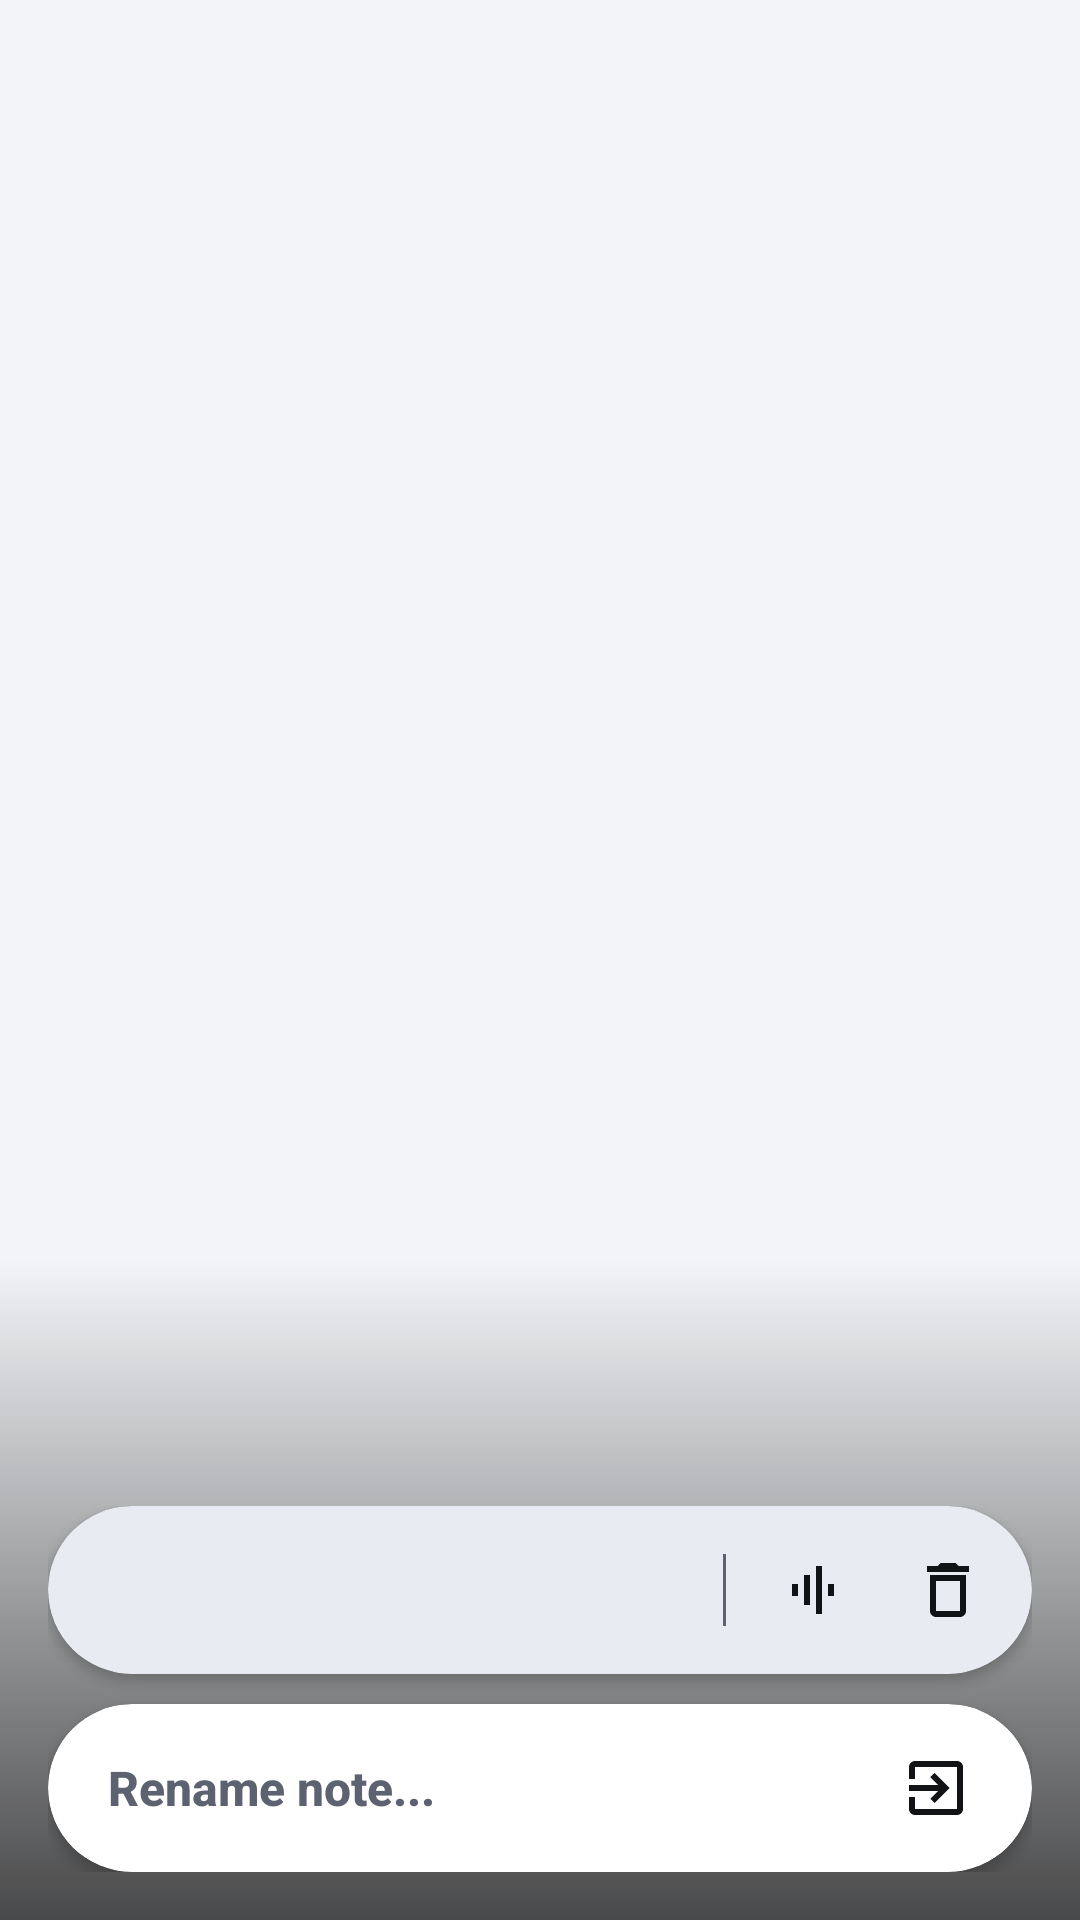

Locate icon controls on the screen. Image size 1080 × 1920, boxes as box=[x1, y1, x2, y2].
Delete Memory: box=[927, 1563, 969, 1617]
Play Audio: box=[792, 1566, 834, 1614]
